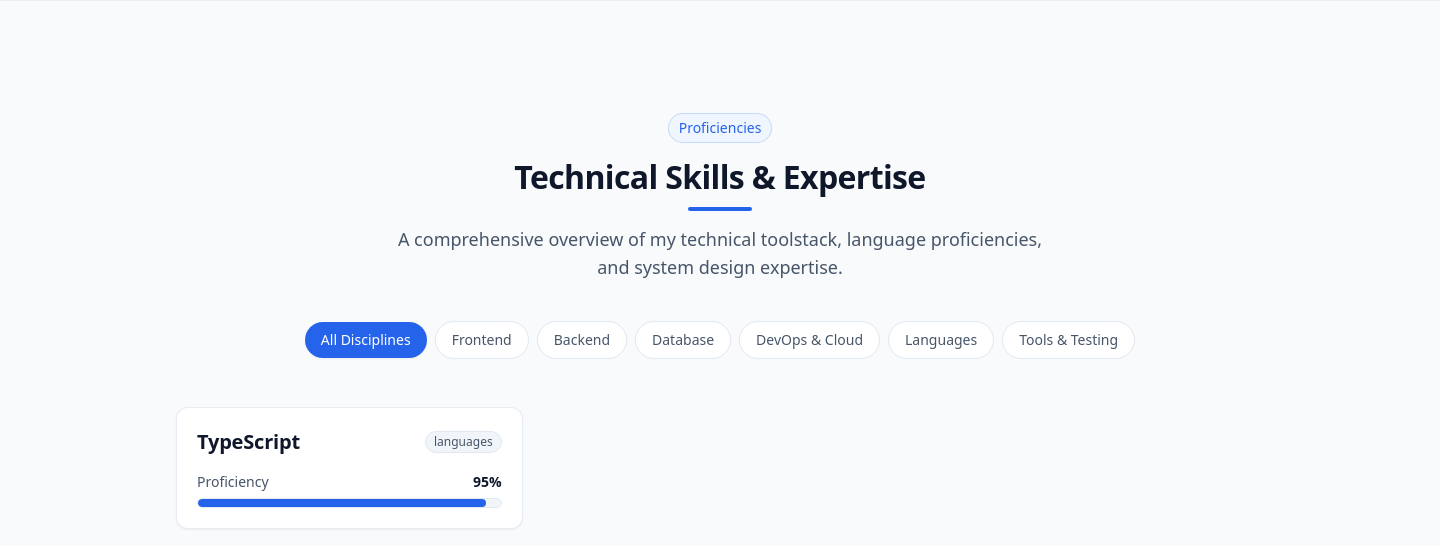
Skills Section Component › renders empty state message when a filtered category contains no skills
Click the button "Frontend": (482, 340) [435,321,529,359]
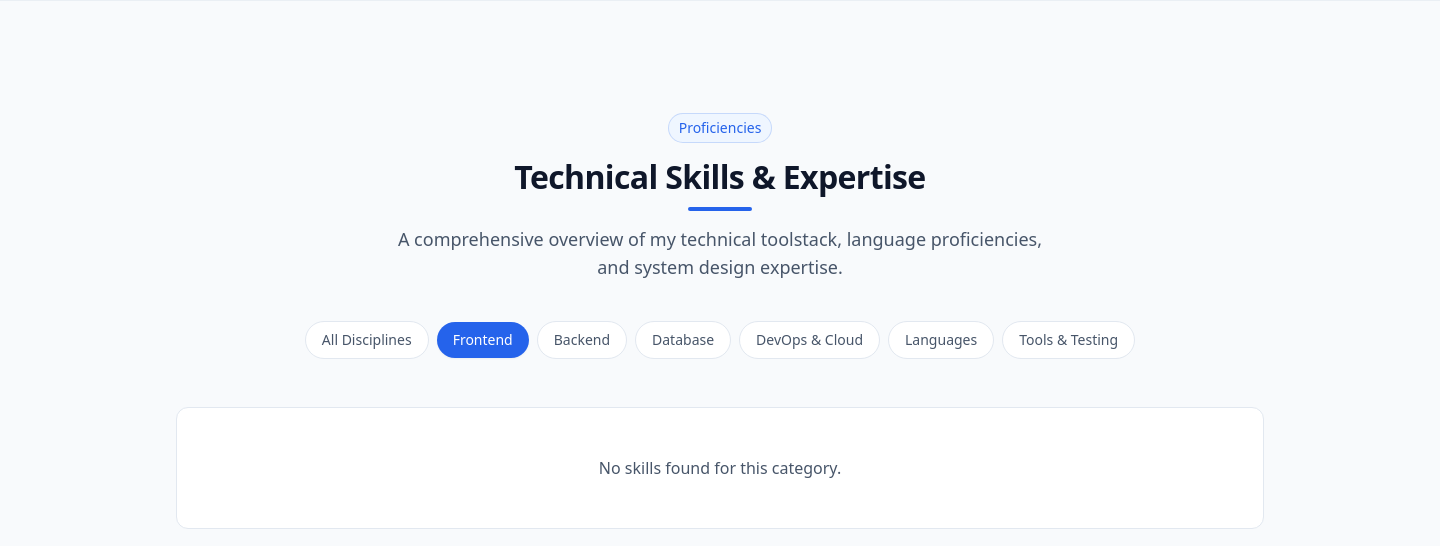
Expected: the text "No skills found for this category." is shown, [599,457,841,479]
